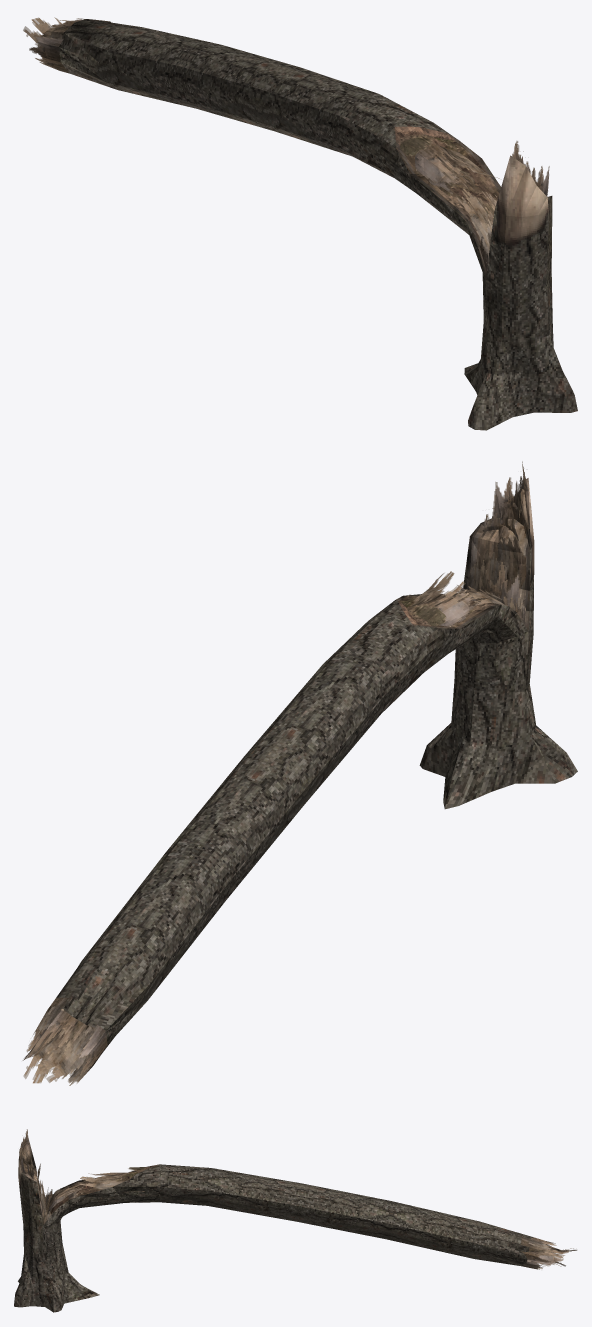
Rendered from fallen_pine_tree_01.glb.
3 renders of one model, top to bottom at view 1: azimuth 30°, elevation 25°; view 2: azimuth 150°, elevation 25°; view 3: azimuth 270°, elevation 25°, orthographic. The views are drawn at different scales.
Parts seen in each view (by area): view 1: fallen_pine_tree_01; view 2: fallen_pine_tree_01; view 3: fallen_pine_tree_01.
Part boxes in pixels (x1,y1,x2,y2): fallen_pine_tree_01: [23, 17, 577, 430]; fallen_pine_tree_01: [22, 461, 577, 1085]; fallen_pine_tree_01: [14, 1129, 576, 1312].
Bounding box in the file's own units: 0.7058 × 1.61 × 4.98.
1 material, 1 textured.
